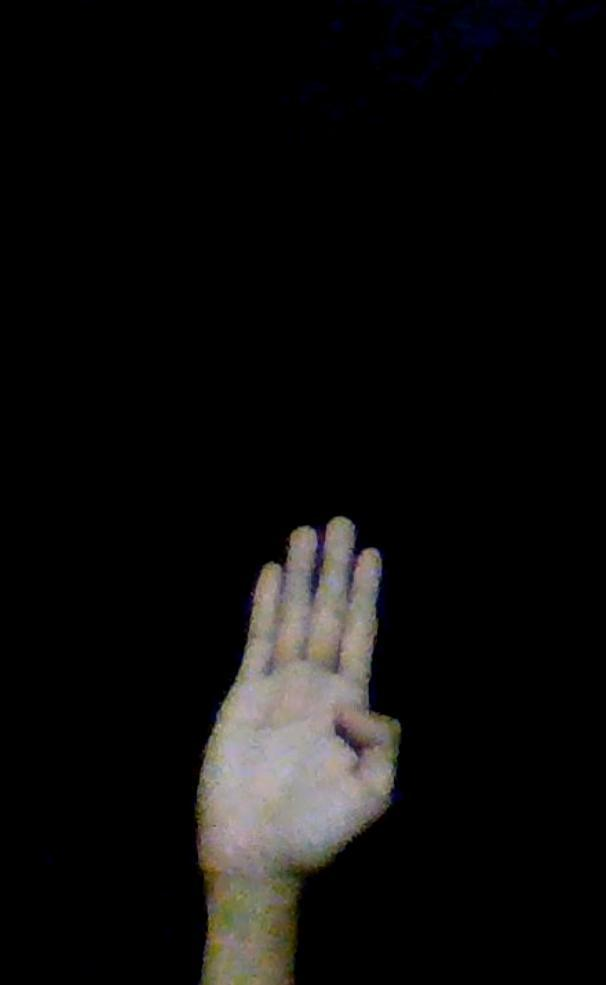b: (192, 519, 401, 874)
